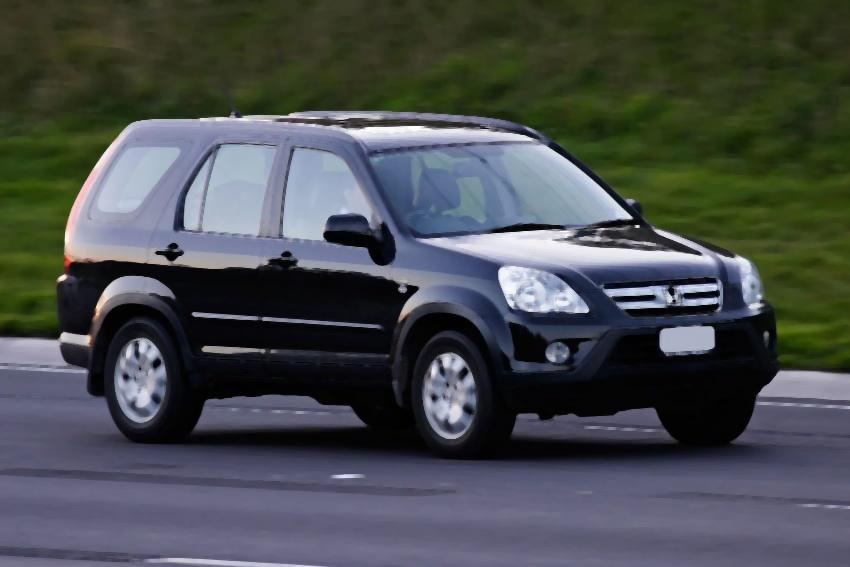Car hood: (412, 214, 751, 284)
Driver-s door - -F-R-: (264, 124, 403, 355)
Fender - -R-R-: (70, 189, 179, 365)
Front bumper: (479, 309, 795, 426)
Headlight - -L-: (727, 245, 776, 312)
Headlight - -R-: (495, 257, 600, 326)
Passenger-s door - -R-R-: (140, 124, 270, 352)
Rear bumper: (35, 272, 107, 384)
Rear light - -R-: (50, 247, 88, 285)
Side bumper - -R-: (179, 342, 414, 418)
Side mirror - -L-: (612, 179, 651, 222)
Side mirror - -R-: (309, 202, 385, 261)
